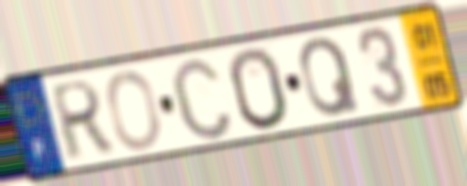3: (357, 22, 410, 112)
C: (167, 53, 237, 143)
O: (226, 45, 293, 134), (104, 67, 164, 153)
Q: (297, 34, 363, 121)
R: (49, 76, 115, 165)
